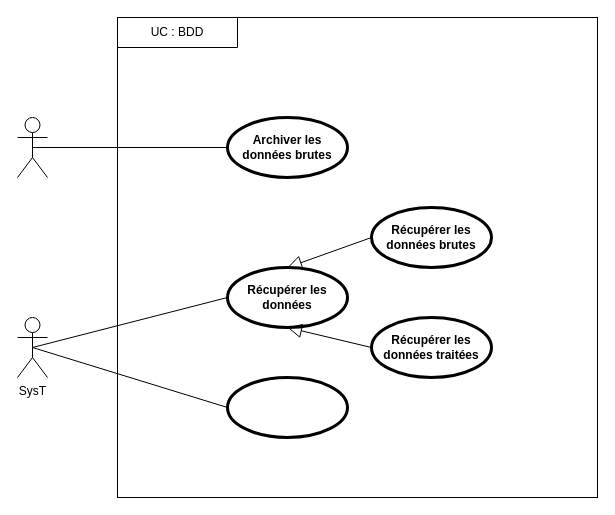
This 615x515 diagram has some shape labels left out. The centre of each missing label's shape, as x and y in pixels:
Archiver les données traitées: (x=287, y=407)
SysA: (x=32, y=147)
